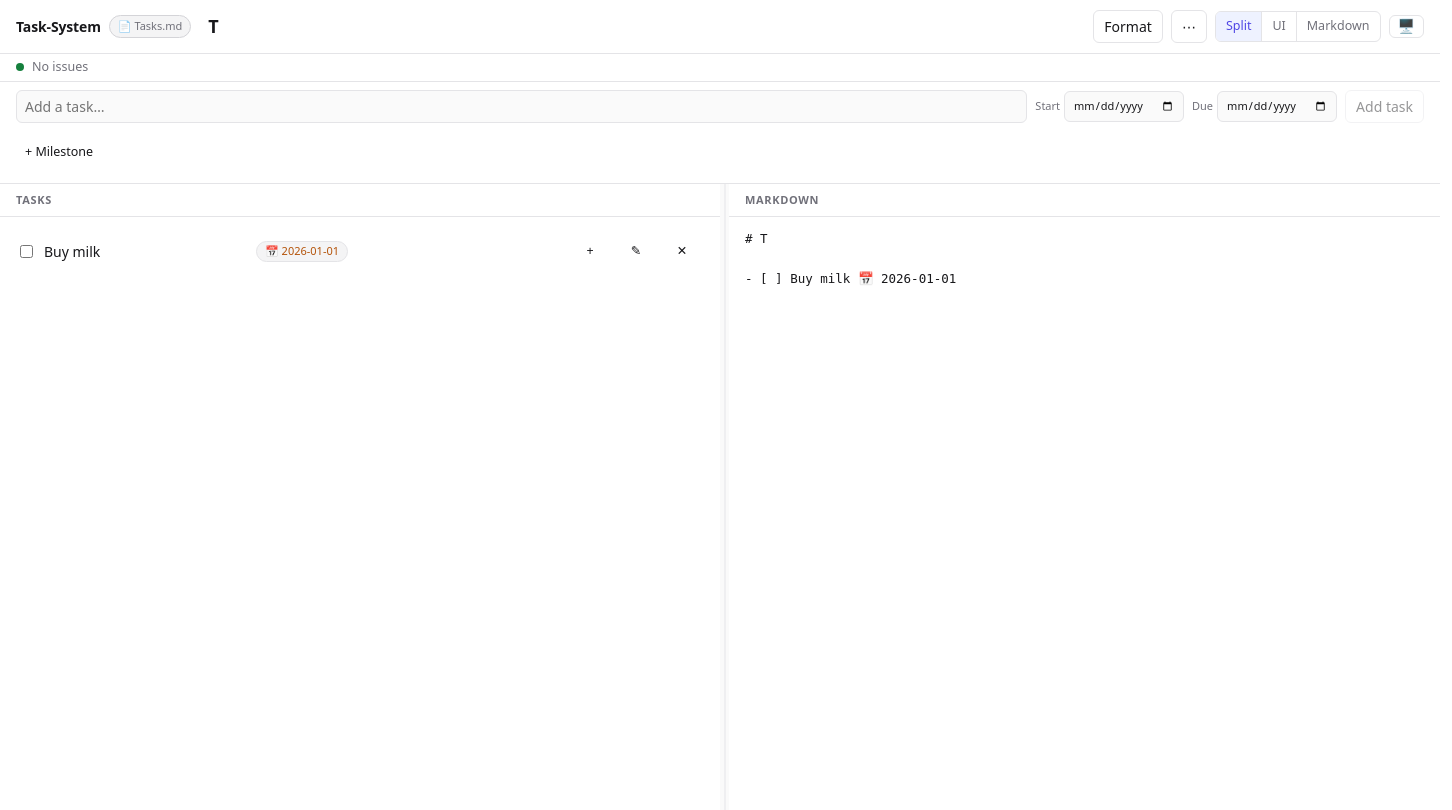
Test: file mode › delete offers Undo, and Undo restores the task
Expected: the text "📄 Tasks.md" is shown, [109,15,191,38]
Click the button named "Delete task". click: [682, 251]
box: [660,229,704,273]
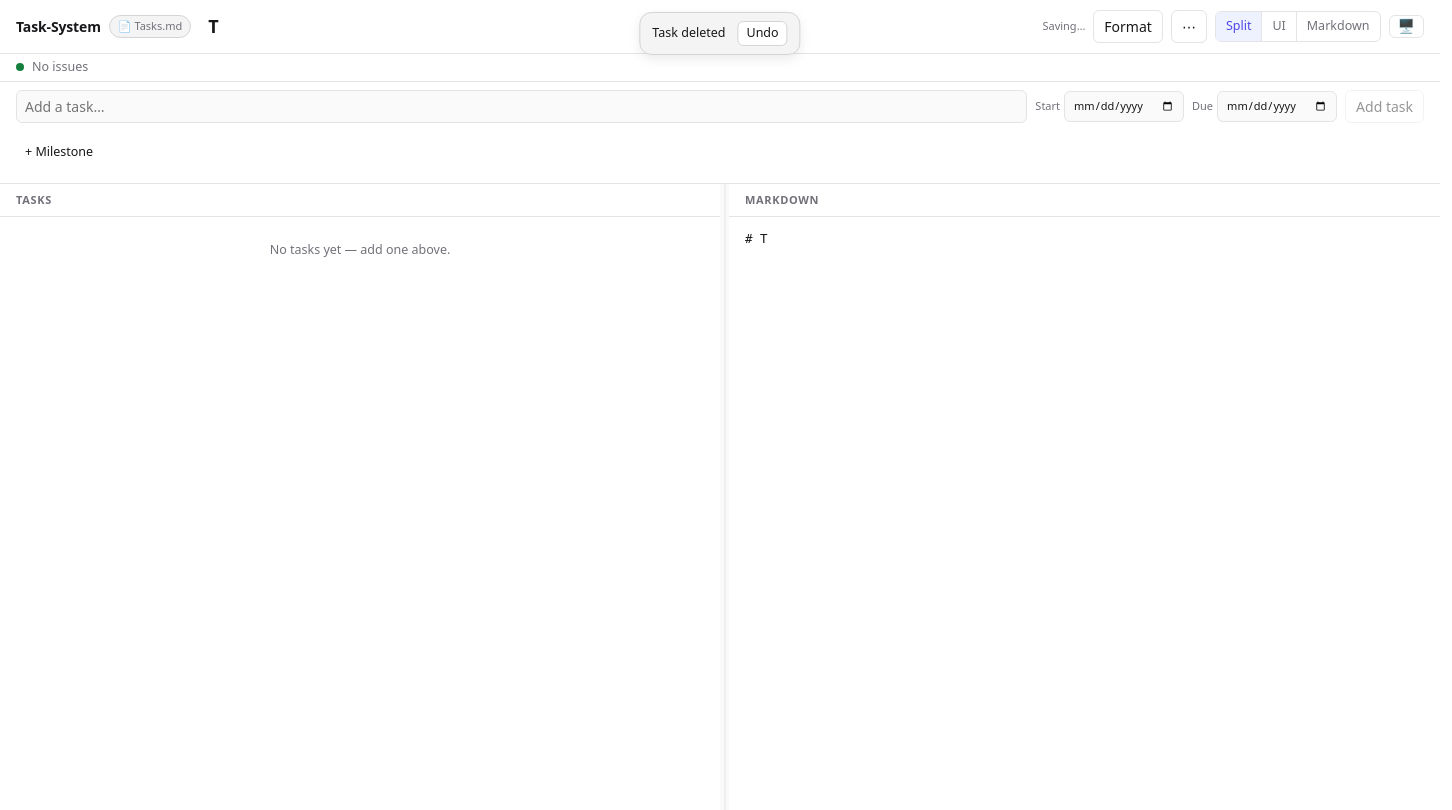
Expected: the text "Task deleted" is shown, [652,24,726,43]
Click the button "Undo". click: [763, 33]
box: [738,21,788,46]
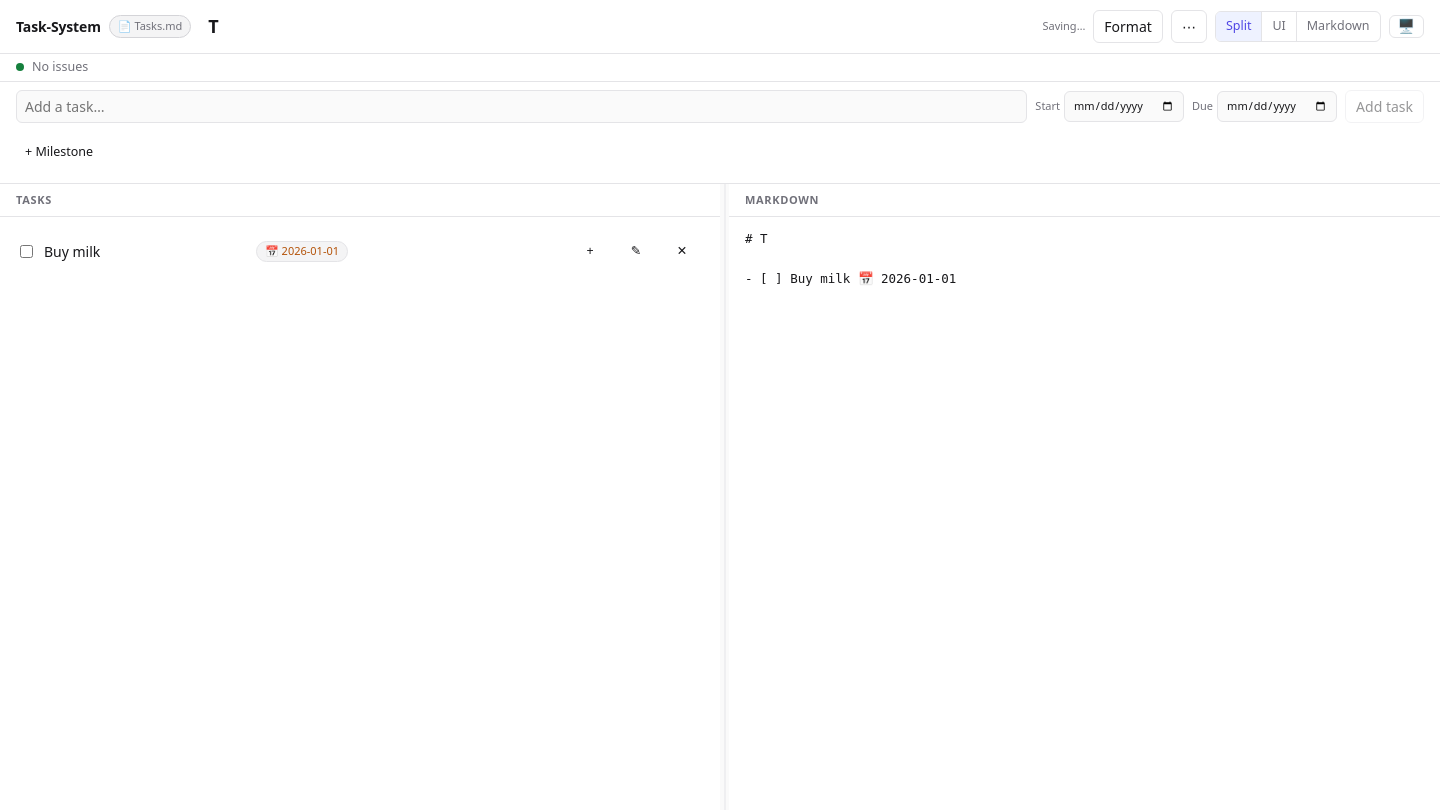
Expected: the text "Buy milk" is shown, [44,242,100,261]
